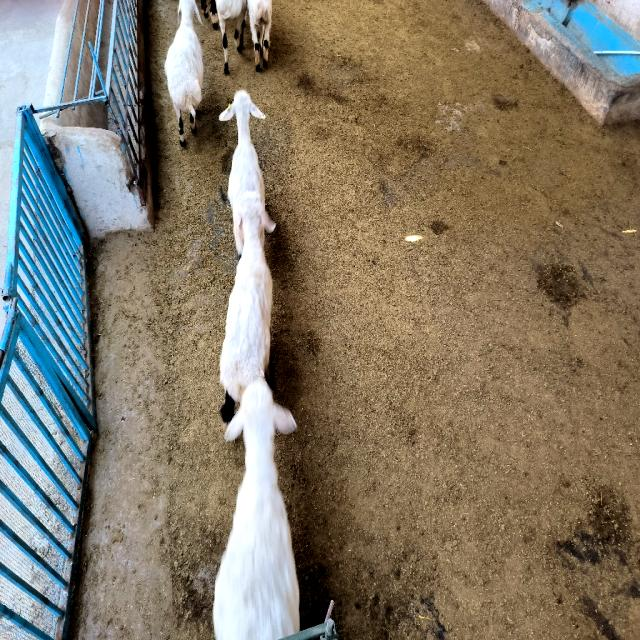sheep: (212, 378, 299, 638), (220, 188, 275, 419), (219, 92, 265, 256), (165, 0, 204, 146), (216, 0, 248, 74), (248, 0, 272, 72)
